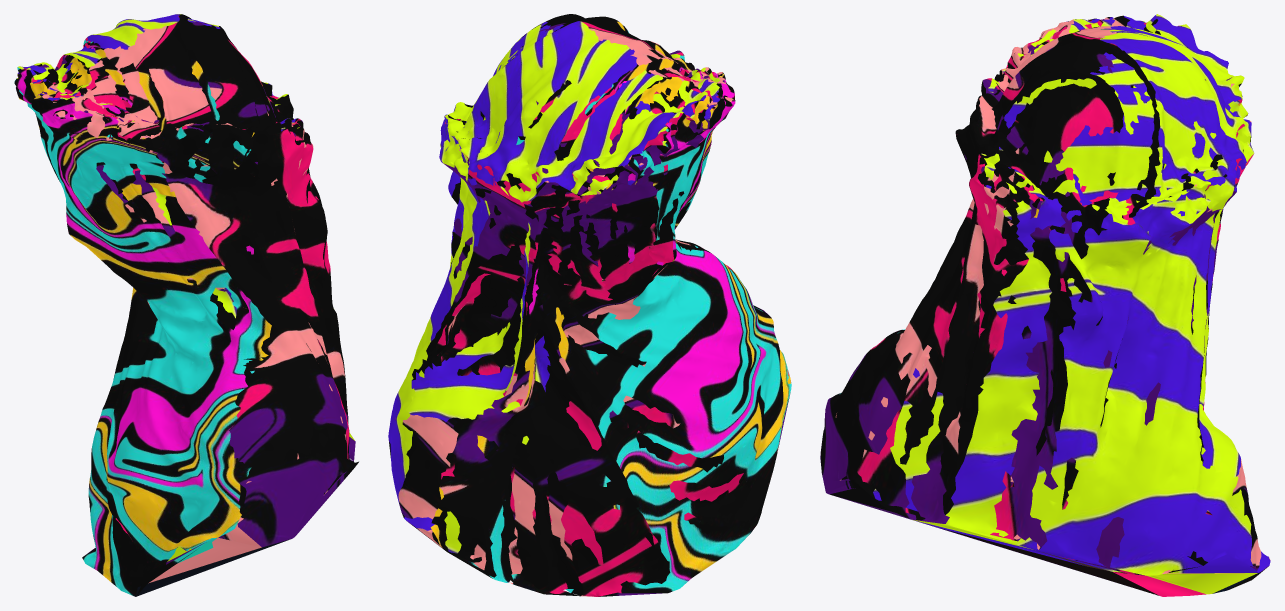
File: statue.glb
3 renders of one model, left to right at view 1: azimuth 30°, elevation 25°; view 2: azimuth 150°, elevation 25°; view 3: azimuth 270°, elevation 25°, orthographic. The views are drawn at different scales.
Parts seen in each view (by area): view 1: High; view 2: High; view 3: High.
Part boxes in pixels (<box>): High: <box>14,14,358,596</box>; High: <box>388,14,791,596</box>; High: <box>820,14,1270,596</box>.
Bounding box in the file's own units: 5.9 × 10.35 × 7.45.
3 materials, 3 textured.
